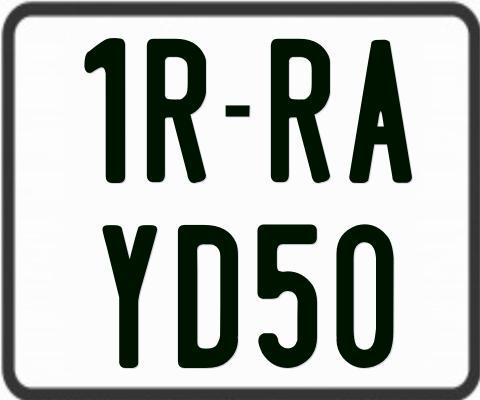0: (333, 224, 394, 373)
1: (83, 35, 127, 185)
5: (257, 222, 317, 367)
A: (349, 38, 417, 181)
D: (175, 225, 240, 370)
R: (271, 36, 335, 186), (144, 38, 204, 188)
Y: (103, 224, 157, 370)
